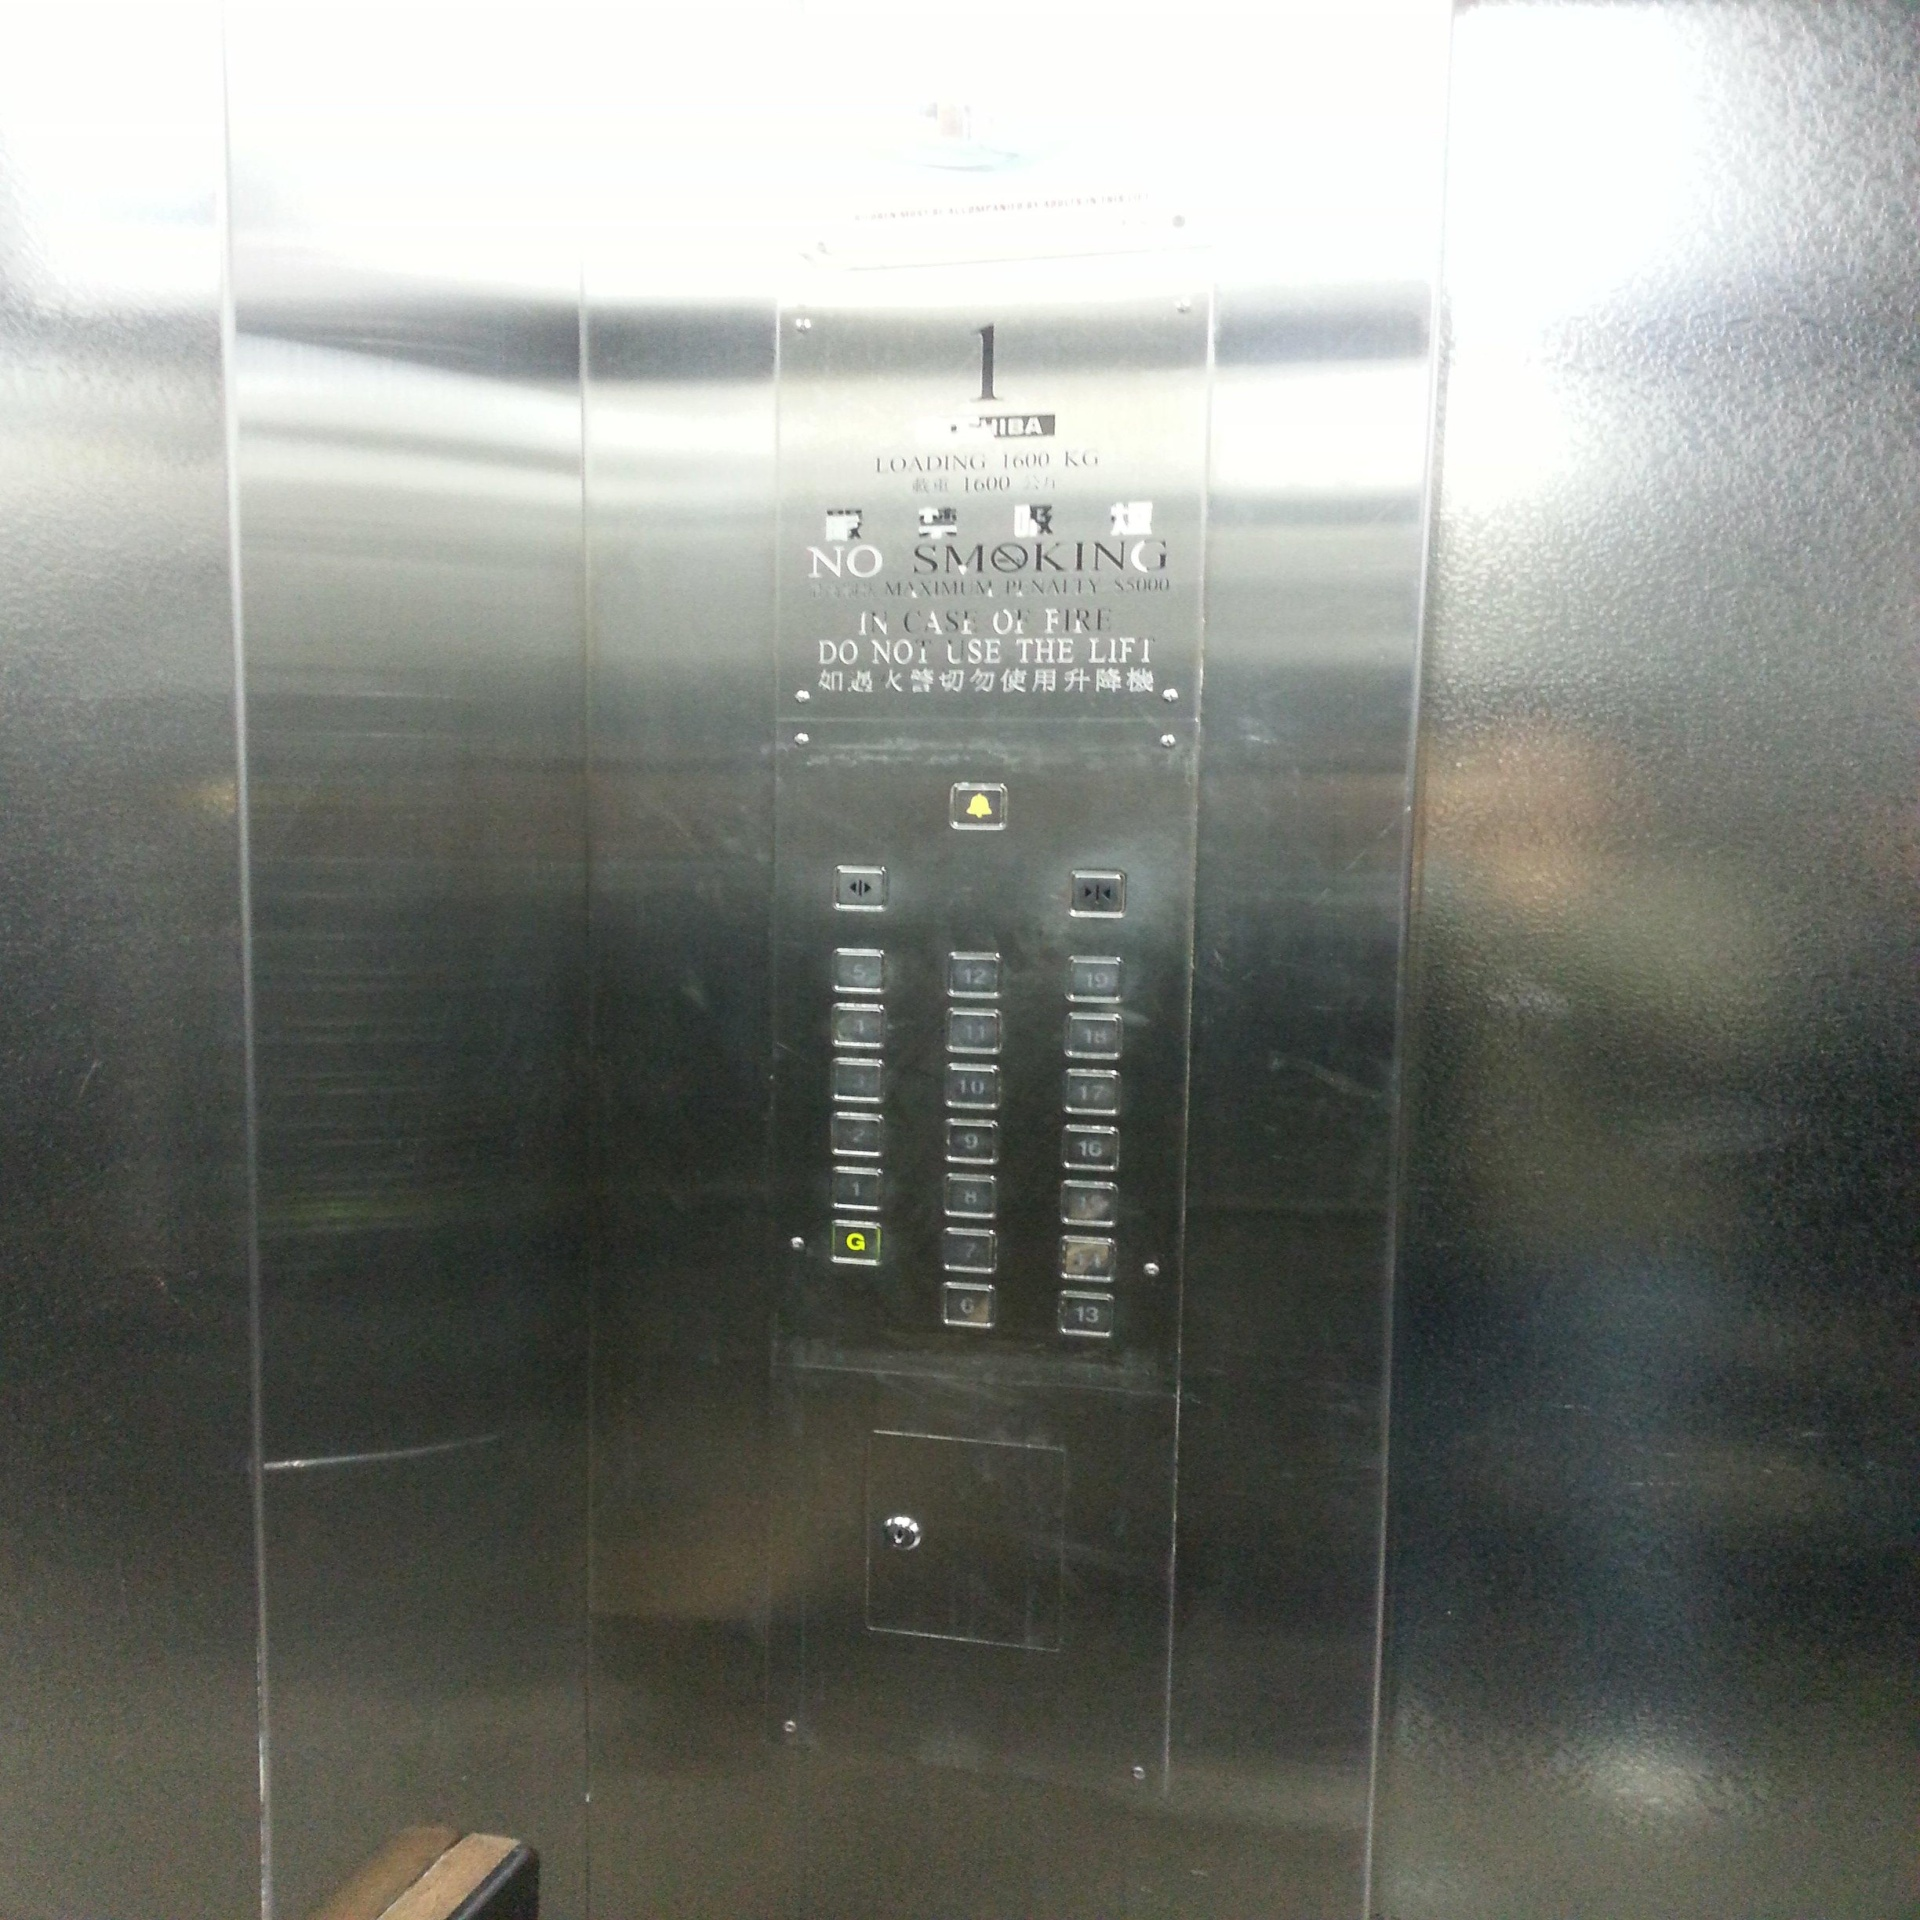1: (828, 1164, 886, 1215)
10: (941, 1058, 1004, 1111)
11: (942, 1002, 1006, 1057)
12: (942, 949, 1004, 1000)
13: (1053, 1289, 1120, 1342)
16: (1058, 1122, 1124, 1175)
17: (1062, 1065, 1122, 1118)
18: (1064, 1009, 1125, 1062)
19: (1064, 953, 1125, 1006)
2: (828, 1109, 886, 1160)
3: (826, 1053, 886, 1104)
4: (826, 1000, 886, 1051)
5: (826, 944, 888, 993)
6: (937, 1280, 997, 1333)
7: (939, 1225, 1000, 1276)
8: (941, 1171, 1000, 1222)
9: (941, 1116, 1002, 1167)
G: (826, 1217, 884, 1269)
alarm: (944, 777, 1011, 833)
blur: (1057, 1176, 1124, 1231), (1057, 1233, 1120, 1285)
close: (1064, 865, 1129, 921)
open: (830, 862, 891, 914)
